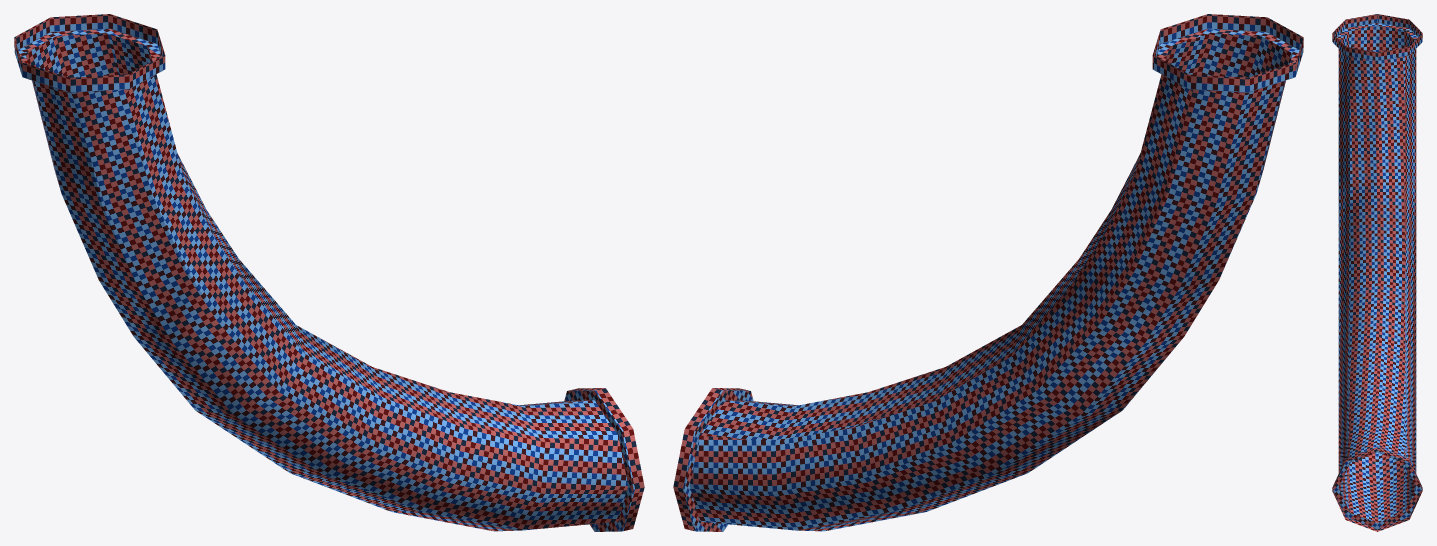
File: Pipe_Turn.fbx
3 views of the same model, side by side, from view 1: azimuth 30°, elevation 25°; view 2: azimuth 150°, elevation 25°; view 3: azimuth 270°, elevation 25° (orthographic). The views are drawn at different scales.
Parts seen in each view (by area): view 1: Pipe_Turn1; view 2: Pipe_Turn1; view 3: Pipe_Turn1.
Part boxes in pixels (x1=…): Pipe_Turn1: x1=14, y1=14, x2=644, y2=531; Pipe_Turn1: x1=673, y1=14, x2=1303, y2=531; Pipe_Turn1: x1=1332, y1=14, x2=1422, y2=531.
Size of the model in its own units: 100 by 100 by 23.23.
Materials: 1 (1 with a texture image).
